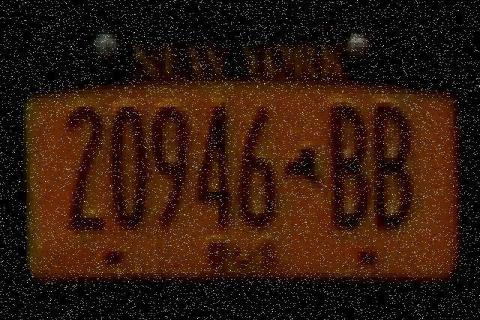LicensePlate: (8, 9, 474, 304)
